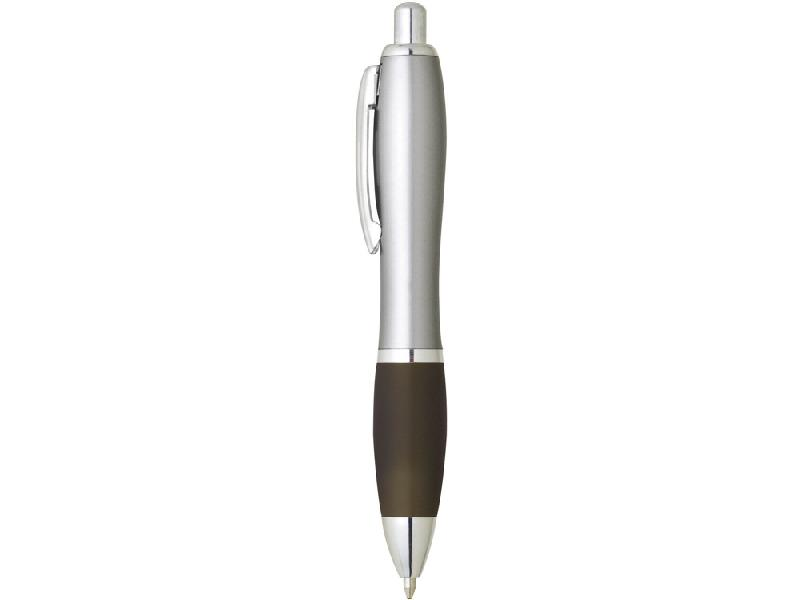pen: (346, 3, 461, 600)
